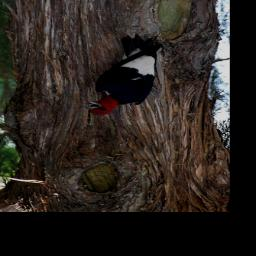Woodpecker: (78, 34, 169, 118)
